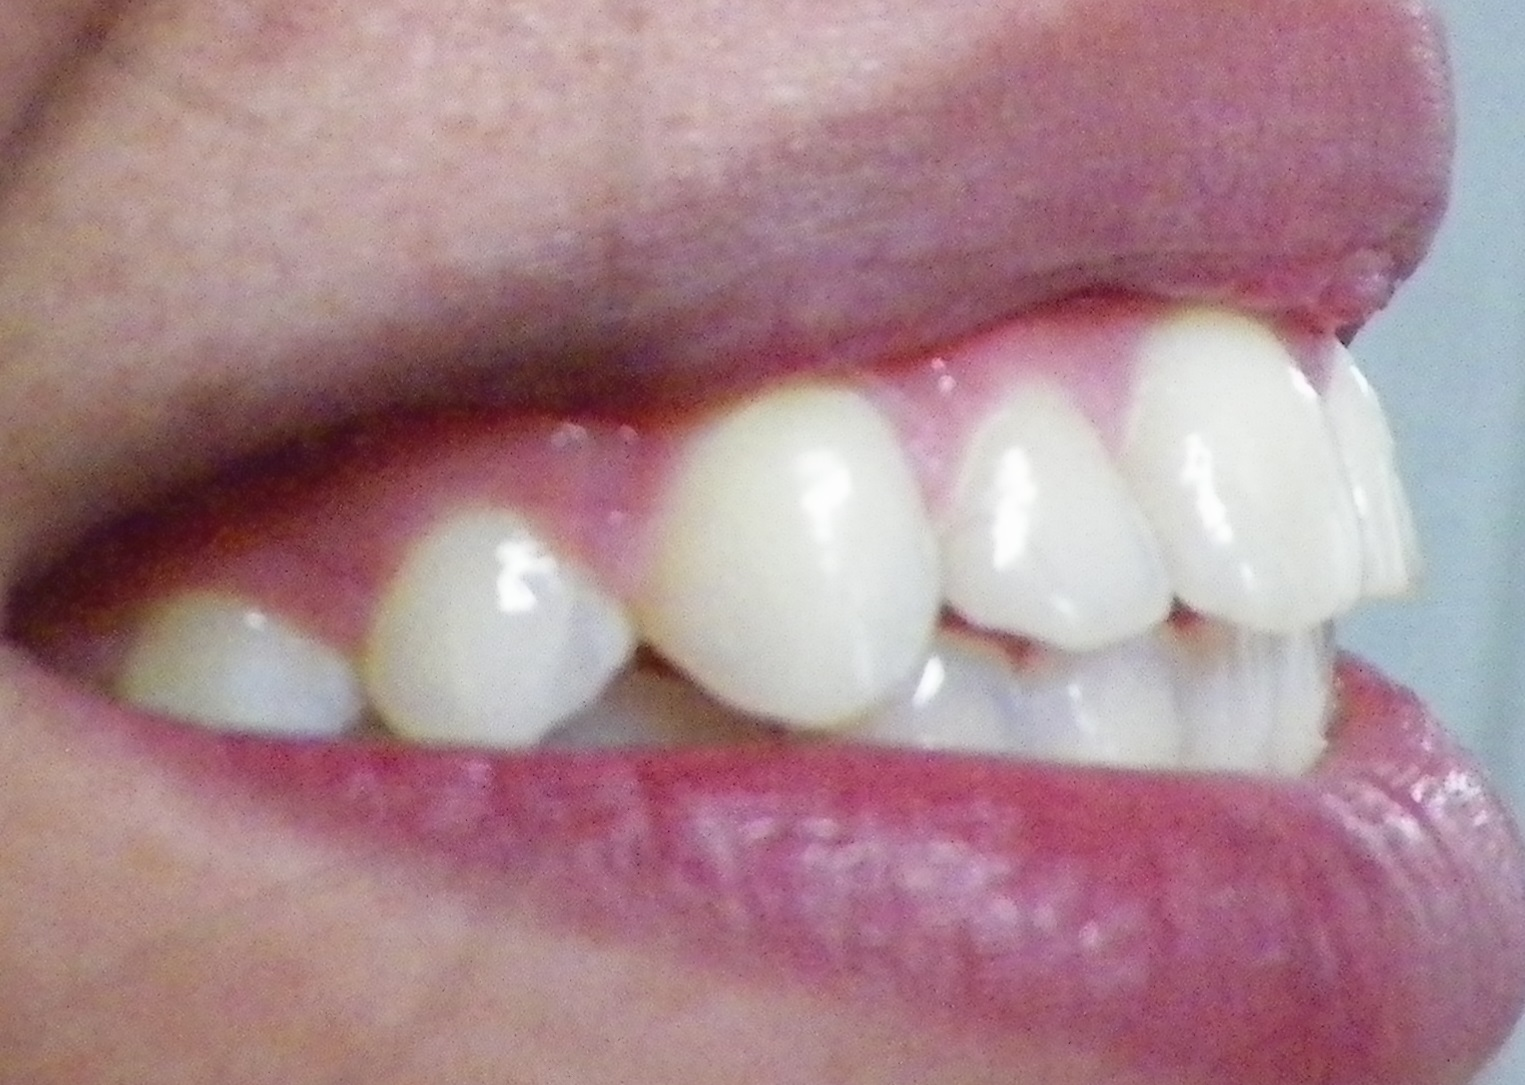boca: (122, 305, 1421, 768)
